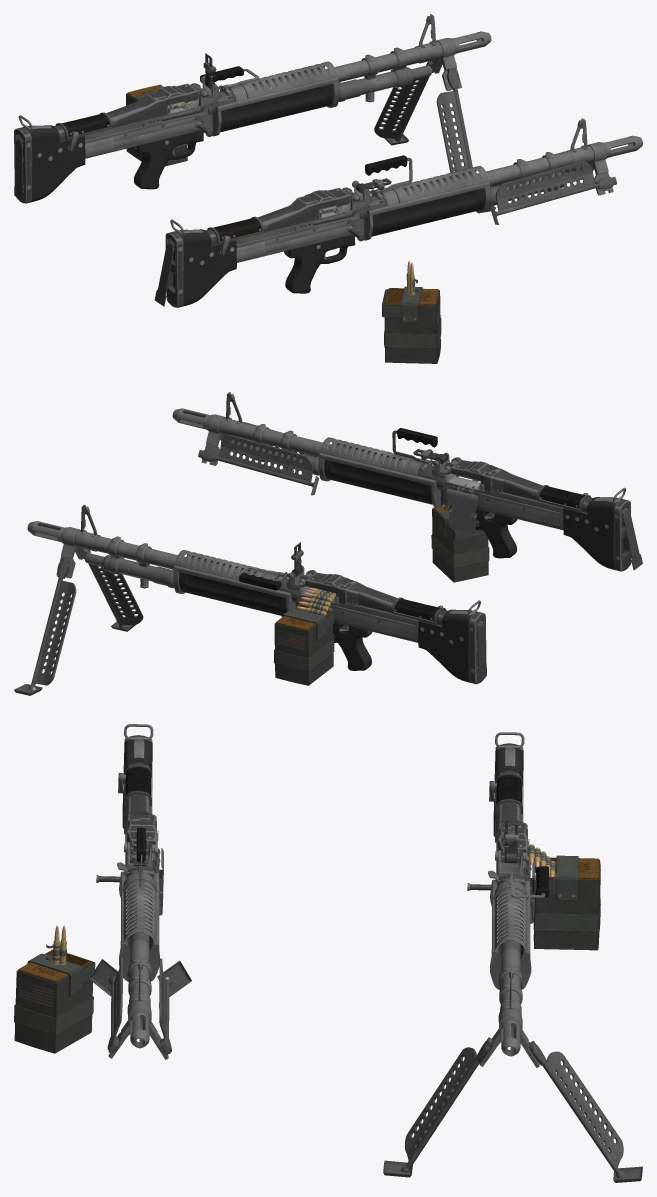
File: m60_machine_gun_-_vietnam_war.glb
The picture shows the model from 3 angles, top to bottom: view 1: azimuth 30°, elevation 25°; view 2: azimuth 150°, elevation 25°; view 3: azimuth 270°, elevation 25°; orthographic projection. The views are drawn at different scales.
Visible parts, largest first — view 1: polySurface320, polySurface285, polySurface346, polySurface239, polySurface245, polySurface261, polySurface237, polySurface156, polySurface248; view 2: polySurface320, polySurface285, polySurface261, polySurface346, polySurface245, polySurface239, polySurface321, polySurface248, polySurface156; view 3: polySurface320, polySurface285, polySurface346, polySurface261, polySurface245, polySurface239.
Boxes of the visible parts, x1,y1,x2,y2 form: polySurface320: (154, 118, 642, 307); polySurface285: (14, 14, 491, 203); polySurface346: (382, 260, 441, 363); polySurface239: (436, 67, 495, 213); polySurface245: (374, 60, 431, 145); polySurface261: (126, 84, 189, 166); polySurface237: (115, 121, 213, 148); polySurface156: (14, 136, 24, 201); polySurface248: (200, 66, 259, 89); polySurface320: (172, 392, 642, 571); polySurface285: (27, 504, 486, 684); polySurface261: (274, 587, 335, 685); polySurface346: (431, 505, 489, 582); polySurface245: (14, 558, 76, 695); polySurface239: (87, 549, 143, 631); polySurface321: (446, 488, 477, 534); polySurface248: (236, 566, 284, 590); polySurface156: (477, 620, 486, 682); polySurface320: (89, 724, 191, 1059); polySurface285: (479, 732, 539, 1067); polySurface346: (14, 925, 95, 1053); polySurface261: (497, 844, 600, 950); polySurface245: (528, 1041, 642, 1182); polySurface239: (383, 1037, 492, 1177).
Size of the model in its own units: 42.35 by 14.89 by 39.01.
5 materials, 5 textured.
